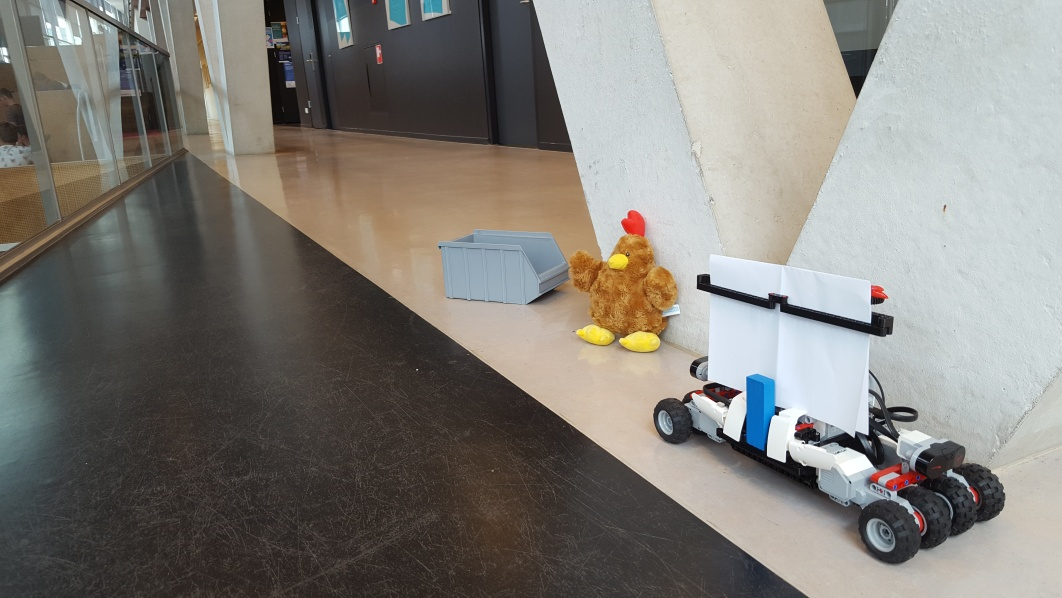car: (654, 253, 1008, 567)
chicken: (571, 210, 679, 352)
tray: (430, 229, 573, 310)
